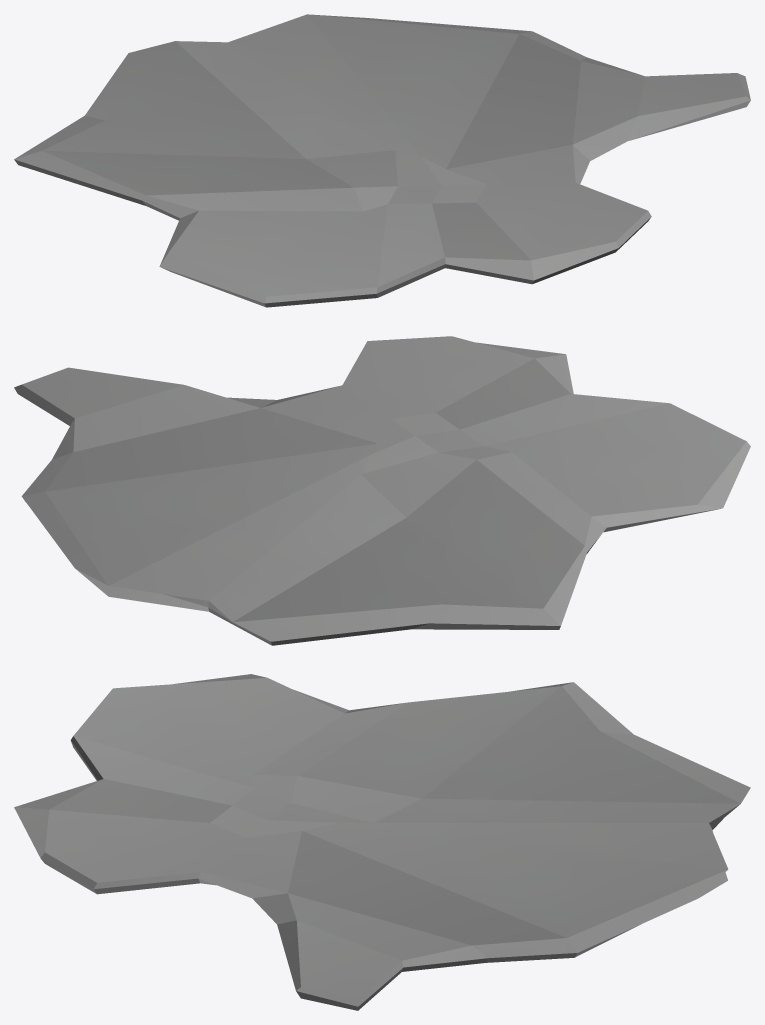
File: dirt_gray.glb
3 renders of one model, top to bottom at view 1: azimuth 30°, elevation 25°; view 2: azimuth 150°, elevation 25°; view 3: azimuth 270°, elevation 25°, orthographic. The views are drawn at different scales.
Parts seen in each view (by area): view 1: dirt_gray; view 2: dirt_gray; view 3: dirt_gray.
Part boxes in pixels (bbox=[...]): dirt_gray: bbox=[14, 14, 750, 307]; dirt_gray: bbox=[14, 336, 750, 645]; dirt_gray: bbox=[14, 674, 750, 1010].
Bounding box in the file's own units: 2.64 × 0.1027 × 2.49.
1 material, 1 textured.
